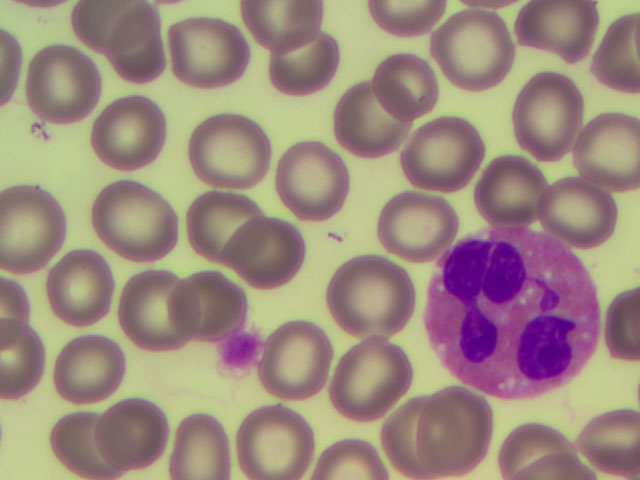Platelets: (228, 333, 259, 375), (29, 123, 55, 139), (328, 232, 347, 245)
RBC: (322, 259, 415, 334), (95, 178, 178, 260), (335, 334, 411, 413), (190, 115, 269, 190), (48, 408, 130, 480), (431, 13, 513, 84), (168, 17, 248, 88), (343, 75, 408, 161), (240, 404, 313, 480), (422, 394, 486, 480), (119, 275, 197, 345), (93, 102, 170, 172), (277, 146, 350, 219), (224, 222, 308, 285), (517, 72, 579, 156), (94, 397, 168, 467), (265, 323, 331, 399), (582, 111, 640, 194), (407, 119, 478, 186), (186, 195, 259, 260), (512, 1, 595, 57), (30, 51, 99, 118), (481, 155, 546, 226), (542, 171, 615, 232), (1, 192, 57, 271), (59, 335, 125, 402), (371, 192, 441, 255), (369, 51, 438, 114), (384, 397, 439, 475), (51, 256, 112, 324), (173, 410, 232, 480), (276, 29, 337, 96), (244, 1, 321, 52), (113, 13, 166, 84), (73, 1, 149, 48), (1, 322, 44, 404), (505, 422, 571, 475), (179, 274, 245, 326), (595, 18, 640, 91), (589, 414, 640, 477), (371, 1, 452, 36), (321, 437, 384, 480), (607, 286, 640, 359), (536, 449, 587, 480), (1, 283, 30, 337), (2, 29, 22, 105)
WBC: (431, 233, 595, 381)
